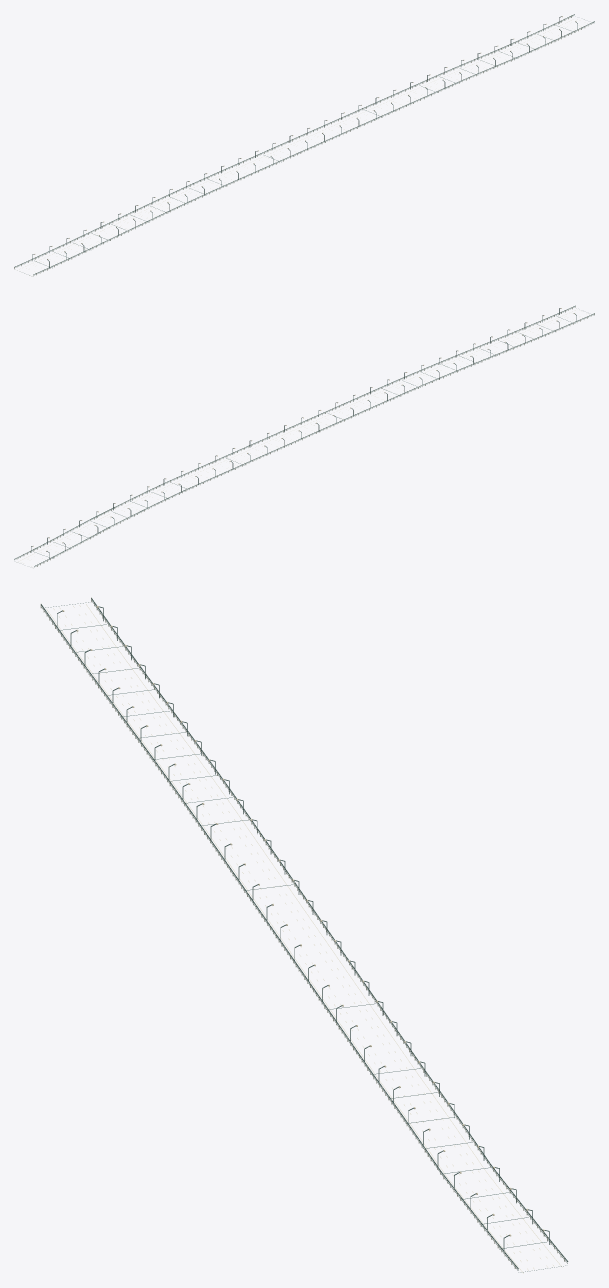
File: transport-1--1.glb
3 views of the same model, one above another, from view 1: azimuth 30°, elevation 25°; view 2: azimuth 210°, elevation 25°; view 3: azimuth 270°, elevation 25° (orthographic). The views are drawn at different scales.
Parts seen in each view (by area): view 1: RiverBridge_Details_huluding-bridge; view 2: RiverBridge_Details_huluding-bridge; view 3: RiverBridge_Details_huluding-bridge.
Boxes of the visible parts, x1,y1,x2,y2 form: RiverBridge_Details_huluding-bridge: (14,14,594,276); RiverBridge_Details_huluding-bridge: (14,305,594,567); RiverBridge_Details_huluding-bridge: (40,597,568,1273).
Bounding box in the file's own units: 12.44 × 0.241 × 4.13.
